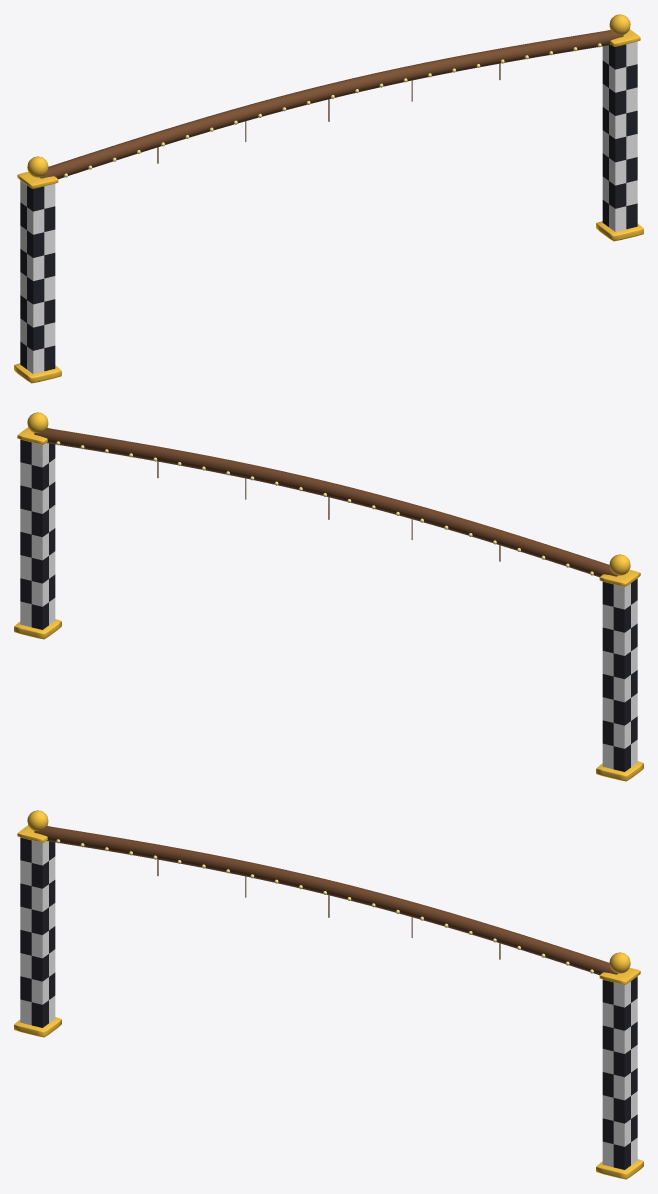
Rendered from RockinRacewayArch.obj.
The picture shows the model from 3 angles, top to bottom: view 1: azimuth 30°, elevation 25°; view 2: azimuth 150°, elevation 25°; view 3: azimuth 330°, elevation 25°; orthographic projection.
Parts seen in each view (by area): view 1: Beam, CheckDark, CheckLight, Gold; view 2: Beam, CheckLight, CheckDark, Gold; view 3: Beam, CheckLight, CheckDark, Gold.
Boxes of the visible parts, bbox=[...] form: Beam: bbox=[39, 30, 623, 179]; CheckDark: bbox=[20, 44, 637, 371]; CheckLight: bbox=[20, 41, 637, 373]; Gold: bbox=[14, 14, 643, 383]; Beam: bbox=[34, 428, 618, 577]; CheckLight: bbox=[20, 442, 637, 769]; CheckDark: bbox=[20, 439, 637, 771]; Gold: bbox=[14, 412, 643, 781]; Beam: bbox=[34, 826, 618, 975]; CheckLight: bbox=[20, 840, 637, 1167]; CheckDark: bbox=[20, 837, 637, 1169]; Gold: bbox=[14, 810, 643, 1179].
Size of the model in its own units: 66.4 by 22.6 by 3.4.
